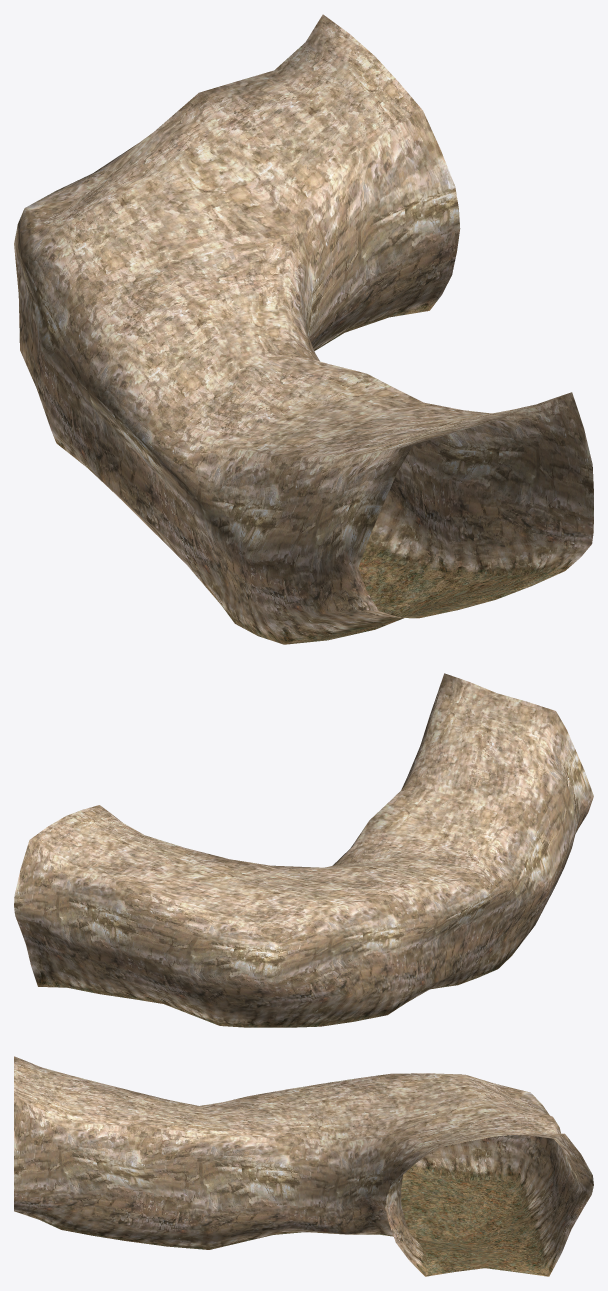
File: thm_all_cave_s02_r10_mesh_r10.fbx
3 views of the same model, one above another, from view 1: azimuth 30°, elevation 25°; view 2: azimuth 150°, elevation 25°; view 3: azimuth 270°, elevation 25° (orthographic). The views are drawn at different scales.
Parts seen in each view (by area): view 1: mesh_node; view 2: mesh_node; view 3: mesh_node.
Boxes of the visible parts, x1,y1,x2,y2 form: mesh_node: (14, 14, 593, 644); mesh_node: (14, 673, 593, 1027); mesh_node: (14, 1056, 593, 1276).
Bounding box in the file's own units: 22.26 × 15.73 × 41.06.
